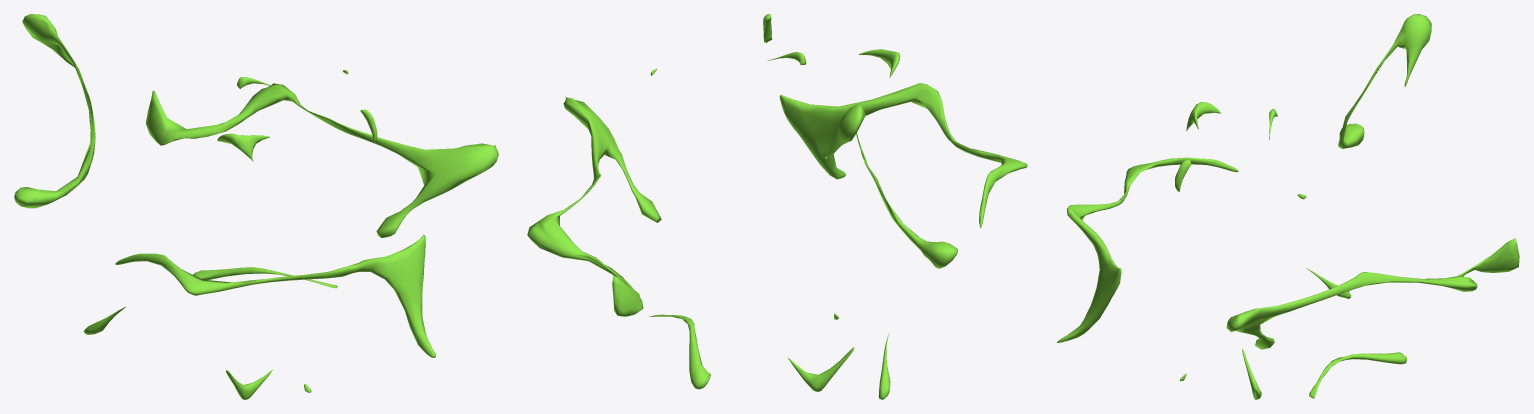
File: p_trashbot_trashball01_trashballgoo_pose1.fbx
The picture shows the model from 3 angles, left to right: view 1: azimuth 30°, elevation 25°; view 2: azimuth 150°, elevation 25°; view 3: azimuth 270°, elevation 25°; orthographic projection. The views are drawn at different scales.
Parts seen in each view (by area): view 1: trashball_goo_pose2; view 2: trashball_goo_pose2; view 3: trashball_goo_pose2.
Part boxes in pixels (<box>): trashball_goo_pose2: <box>14,14,498,399</box>; trashball_goo_pose2: <box>527,14,1027,399</box>; trashball_goo_pose2: <box>1057,14,1519,399</box>.
Bounding box in the file's own units: 20.36 × 16.35 × 20.9.
